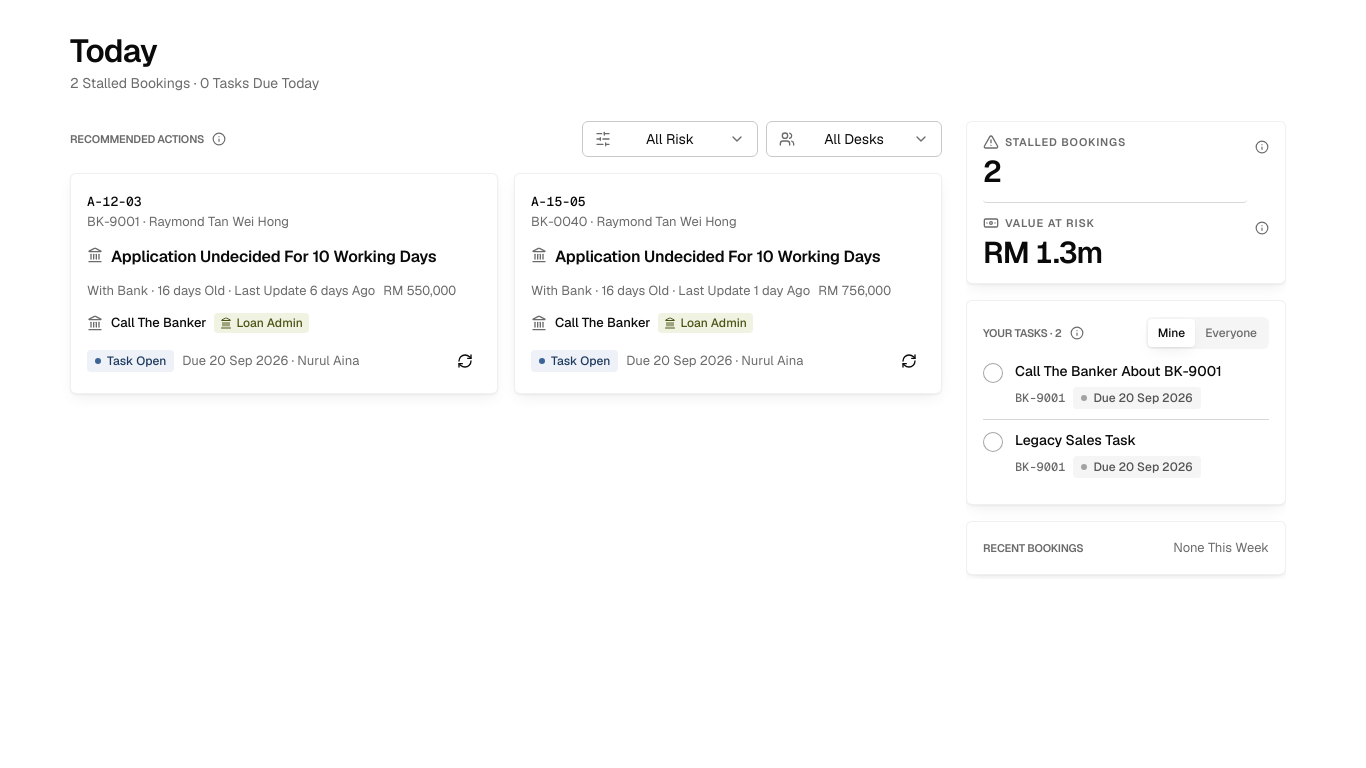
Test: ChasePage › Your Tasks › opens only the exact profile and role, then can widen to every returned task
The image size is (1366, 768).
Expected: the link "Call The Banker About BK-9001" is shown, [1015,361,1222,381]
Expected: the link "Legacy Sales Task" is shown, [1015,431,1136,449]
Click the button "Everyone" at point(1231, 333), box [1195,319,1267,347]
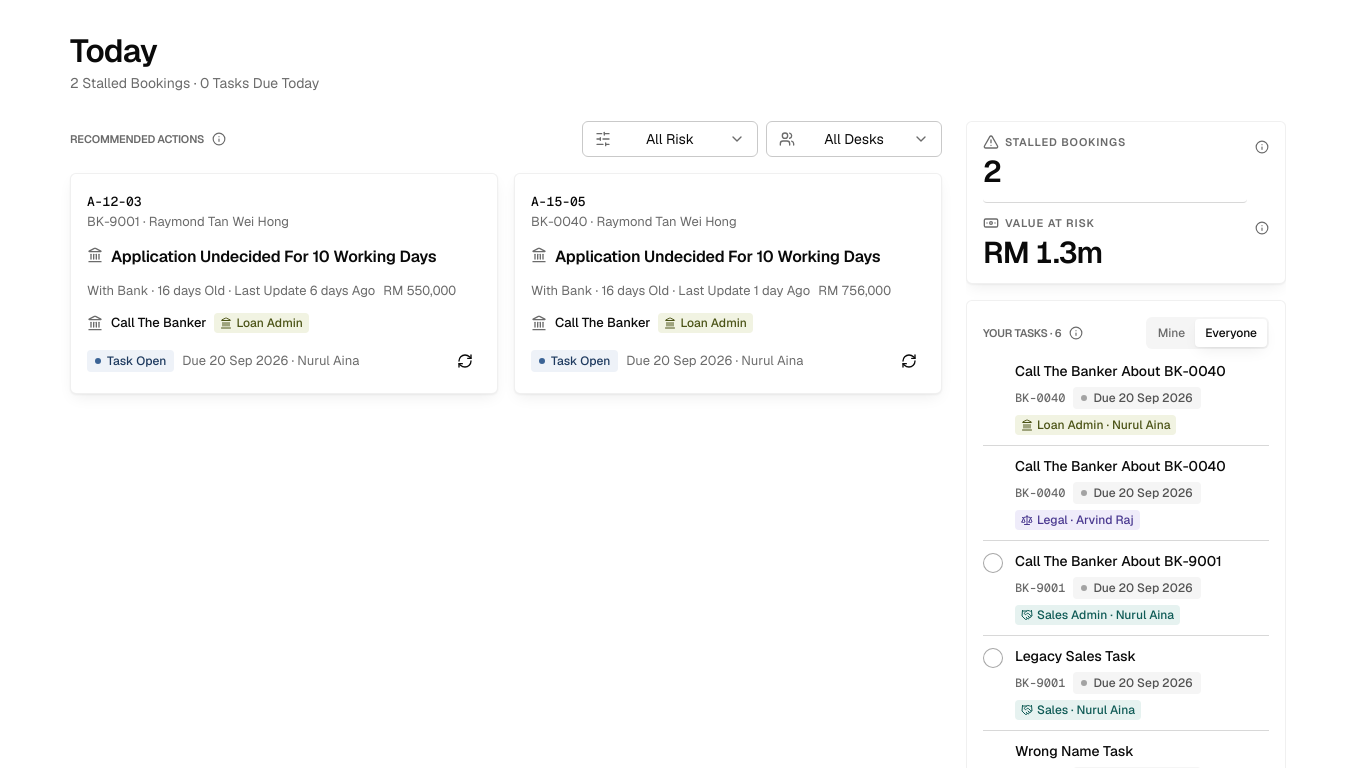
Result: the number of links "Call The Banker About BK-0040" is 2 at [1015,361,1226,381]; [1015,456,1226,476]
